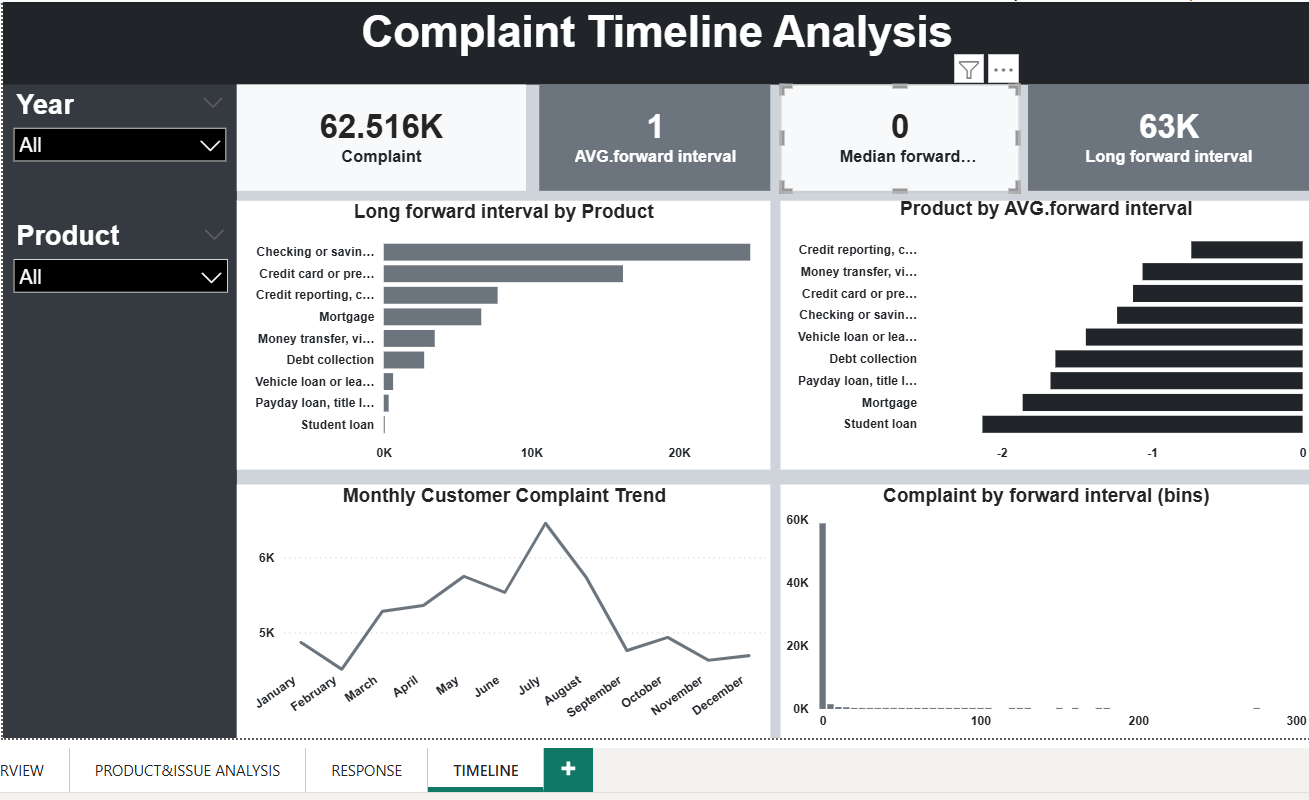

What the dashboard file says about the page in this screenshot:
{"tool":"powerbi","page":{"name":"TIMELINE","canvas":[1280,720],"ordinal":3},"visuals":[{"type":"shape","box":[46,0,1234,720],"z":0},{"type":"shape","box":[0,0,229,720],"z":1000},{"type":"shape","box":[0,0,1280,81],"z":2000},{"type":"shape","box":[229,81,283,104],"z":3000},{"type":"shape","box":[525,81,226,104],"z":4000},{"type":"shape","box":[760,81,234,104],"z":5000},{"type":"shape","box":[1003,81,277,104],"z":6000},{"type":"shape","box":[229,194,522,263],"z":7000},{"type":"shape","box":[229,472,522,248],"z":8000},{"type":"shape","box":[760,194,520,263],"z":9000},{"type":"shape","box":[760,472,520,248],"z":10000},{"type":"cardVisual","fields":{"Data":["CountNonNull(Data.Complaint ID)"]},"box":[228.9,81.1,283.3,104.4],"z":11000},{"type":"cardVisual","fields":{"Data":["Data.interval"]},"box":[525.6,81.1,225.6,104.4],"z":12000},{"type":"cardVisual","fields":{"Data":["Median(Data.forward interval)"]},"box":[760,81.1,234.4,104.4],"z":13000},{"type":"cardVisual","fields":{"Data":["Data.LONG FORWARD INTERVAL"]},"box":[1003.3,81.1,276.7,104.4],"z":14000},{"type":"lineChart","title":"Monthly Customer Complaint Trend","fields":{"Category":["Data.Date received.Variation.Date Hierarchy.Month"],"Y":["CountNonNull(Data.Complaint ID)"]},"box":[230,472.2,521.1,247.8],"z":15000},{"type":"clusteredColumnChart","title":"Complaint by forward interval (bins)","fields":{"Y":["CountNonNull(Data.Complaint ID)"],"Category":["Data.positive interval (bins)"]},"box":[760,472.2,520,247.8],"z":16000},{"type":"barChart","title":"Product by AVG.forward interval","fields":{"Category":["Data.Product"],"Y":["Avg(Data.forward interval)"]},"box":[760,192.2,520,265.6],"z":17000},{"type":"clusteredBarChart","title":"Long forward interval by Product","fields":{"Category":["Data.Product"],"Y":["Data.LONG FORWARD INTERVAL"]},"box":[228.9,194.4,522.2,263.3],"z":18000},{"type":"textbox","box":[0,0,1280,81.1],"z":19000},{"type":"slicer","fields":{"Values":["Data.Date submitted.Variation.Date Hierarchy.Year"]},"box":[0,80.7,228.7,150.4],"z":20000},{"type":"slicer","fields":{"Values":["Data.Product"]},"box":[0,209.1,229.9,150.4],"z":21000}]}

Visuals, with their boxes on the page's 1280x720 design canvas (x1, y1, x2, y2). These are canvas units, not pixel positions in the 1309x800 screenshot, which may show the page scaled, cropped or inside an application window:
shape: l=46, t=0, r=1280, b=720
shape: l=0, t=0, r=229, b=720
shape: l=0, t=0, r=1280, b=81
shape: l=229, t=81, r=512, b=185
shape: l=525, t=81, r=751, b=185
shape: l=760, t=81, r=994, b=185
shape: l=1003, t=81, r=1280, b=185
shape: l=229, t=194, r=751, b=457
shape: l=229, t=472, r=751, b=720
shape: l=760, t=194, r=1280, b=457
shape: l=760, t=472, r=1280, b=720
cardVisual - CountNonNull(Data.Complaint ID): l=229, t=81, r=512, b=186
cardVisual - Data.interval: l=526, t=81, r=751, b=186
cardVisual - Median(Data.forward interval): l=760, t=81, r=994, b=186
cardVisual - Data.LONG FORWARD INTERVAL: l=1003, t=81, r=1280, b=186
"Monthly Customer Complaint Trend" lineChart: l=230, t=472, r=751, b=720
"Complaint by forward interval (bins)" clusteredColumnChart: l=760, t=472, r=1280, b=720
"Product by AVG.forward interval" barChart: l=760, t=192, r=1280, b=458
"Long forward interval by Product" clusteredBarChart: l=229, t=194, r=751, b=458
textbox: l=0, t=0, r=1280, b=81
slicer - Data.Date submitted.Variation.Date Hierarchy.Year: l=0, t=81, r=229, b=231
slicer - Data.Product: l=0, t=209, r=230, b=360
